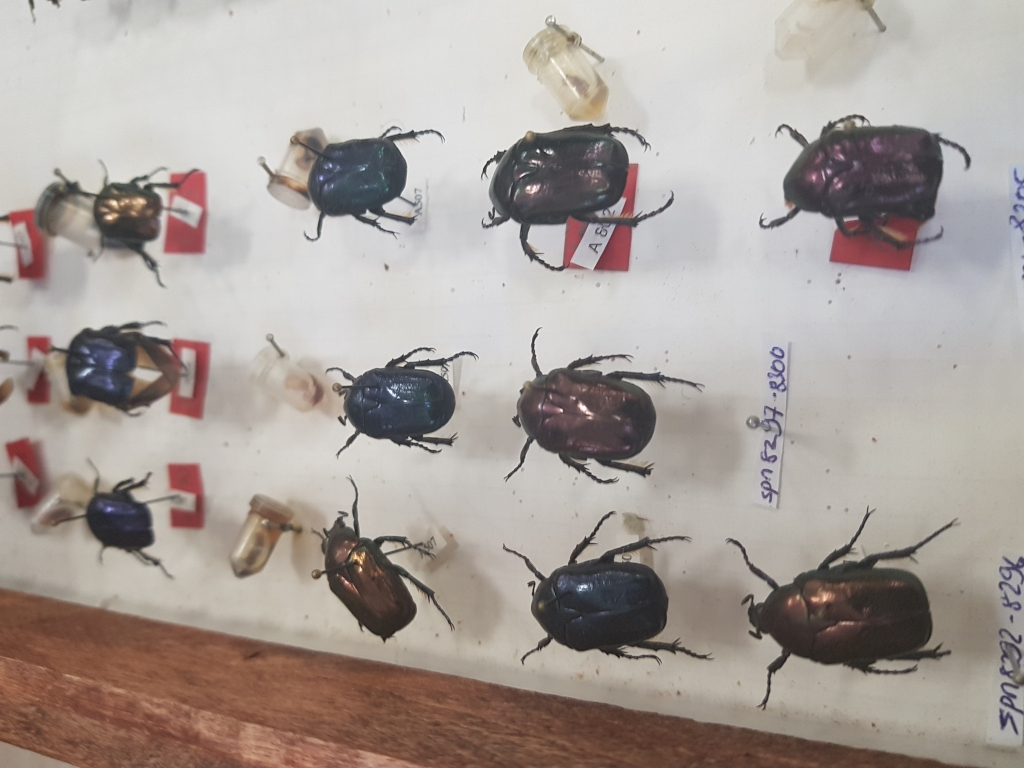Protaetia_besucheti: (727, 511, 983, 728), (480, 501, 740, 699), (489, 324, 726, 504), (295, 478, 459, 657)
